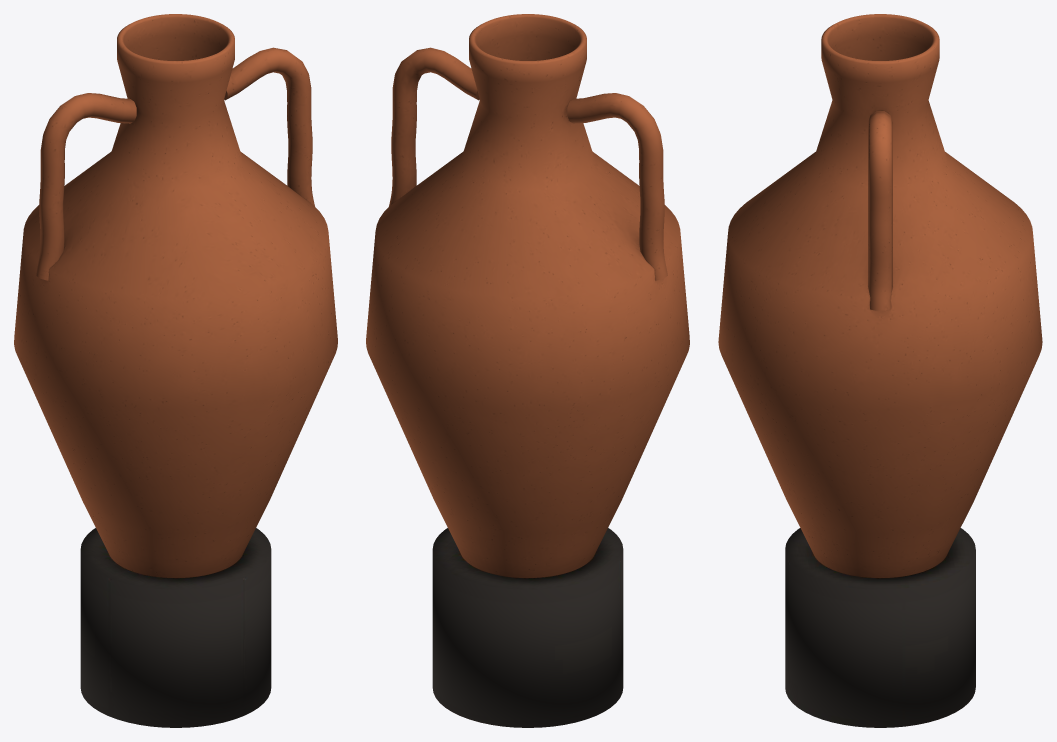
The model's file is terracotta.glb.
3 views of the same model, side by side, from view 1: azimuth 30°, elevation 25°; view 2: azimuth 150°, elevation 25°; view 3: azimuth 270°, elevation 25° (orthographic).
Visible parts, largest first — view 1: terracotta_primary, iron; view 2: terracotta_primary, iron; view 3: terracotta_primary, iron.
Part boxes in pixels (box(x1,y1,x2,y2)): terracotta_primary: box(14, 14, 337, 577); iron: box(80, 528, 271, 727); terracotta_primary: box(366, 14, 689, 577); iron: box(432, 528, 623, 727); terracotta_primary: box(718, 14, 1042, 577); iron: box(785, 528, 975, 727).
Size of the model in its own units: 0.34 by 0.7524 by 0.34.
Materials: 2 (2 with a texture image).
